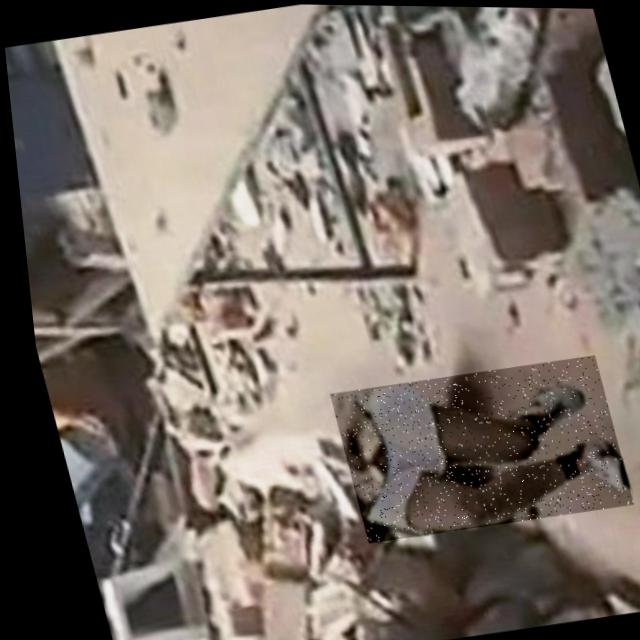Person in Rubble: (318, 349, 626, 545)
